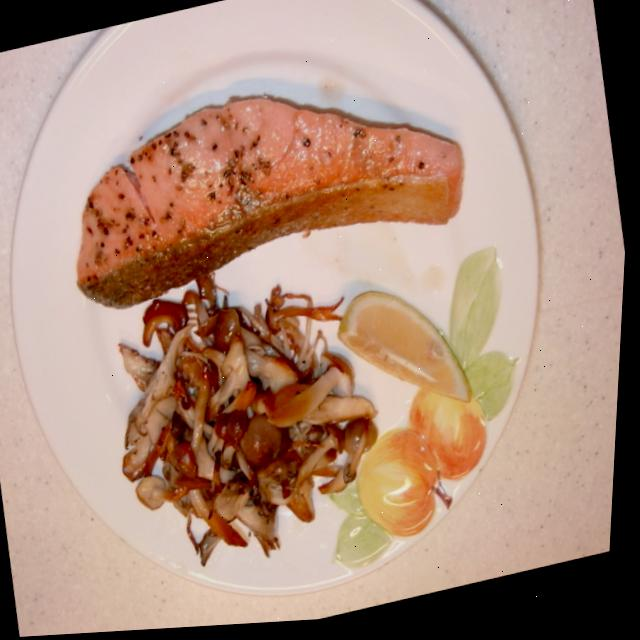熟制海鲜: (50, 52, 479, 332)
